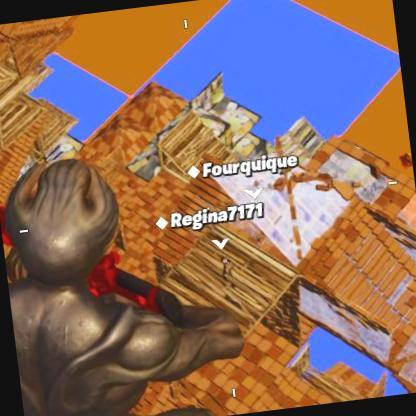person: (216, 250, 240, 284)
